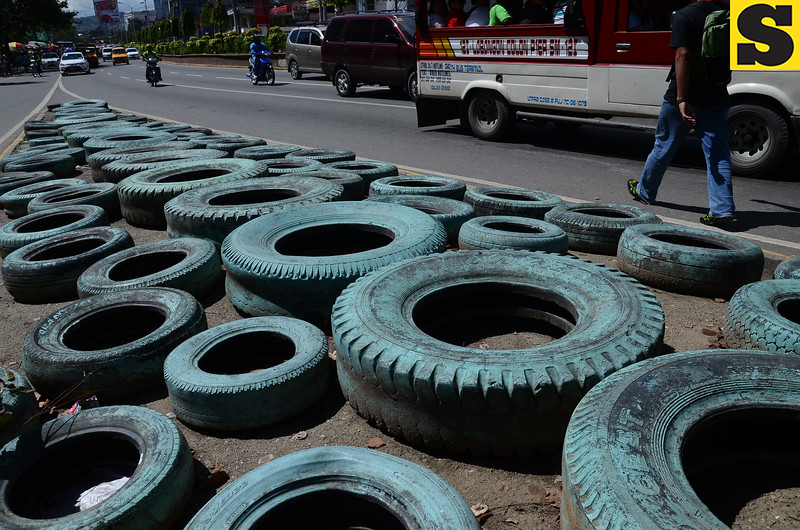tire: (330, 246, 680, 474), (557, 347, 800, 526), (172, 442, 492, 530), (222, 202, 453, 322), (1, 402, 192, 528), (16, 297, 219, 406), (168, 306, 338, 429), (166, 174, 349, 264), (614, 216, 767, 297), (1, 222, 134, 307), (122, 159, 272, 232), (69, 241, 228, 309), (349, 192, 482, 247), (1, 201, 110, 268), (538, 198, 661, 256), (457, 212, 575, 272), (702, 104, 792, 178), (28, 175, 120, 233), (722, 277, 800, 340), (105, 148, 230, 187), (1, 170, 84, 223), (471, 187, 569, 225), (370, 174, 469, 209), (458, 87, 517, 145), (325, 160, 401, 190)
